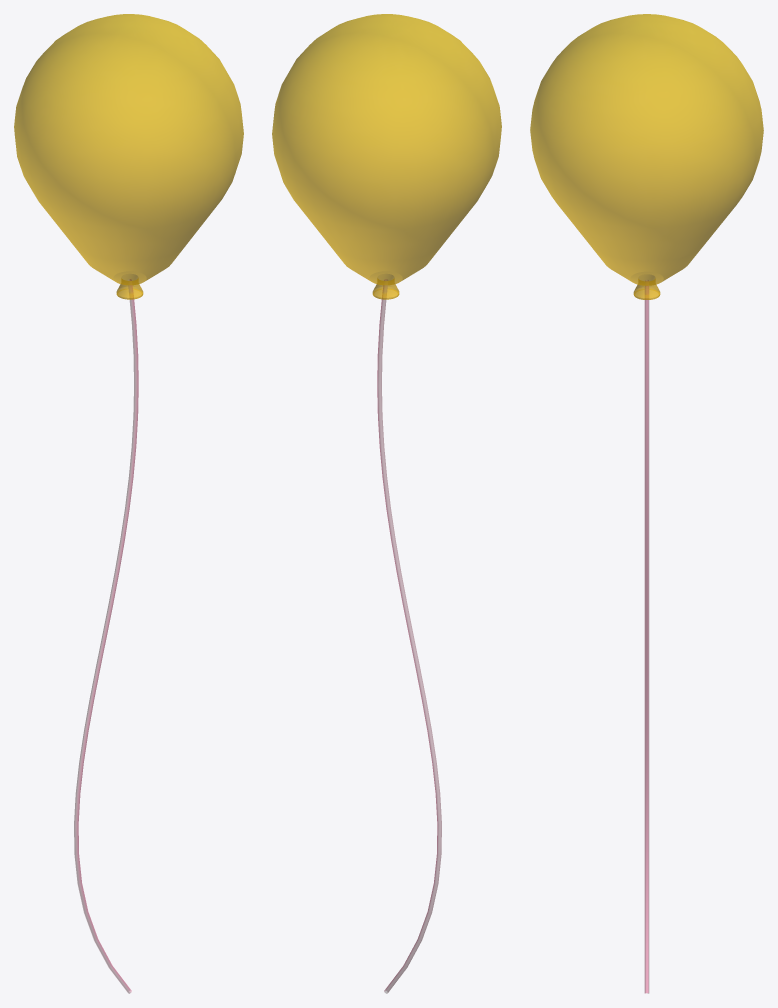
File: balloon.fbx
The picture shows the model from 3 angles, left to right: view 1: azimuth 30°, elevation 25°; view 2: azimuth 150°, elevation 25°; view 3: azimuth 270°, elevation 25°; orthographic projection.
Parts seen in each view (by area): view 1: balloon, string; view 2: balloon, string; view 3: balloon, string.
Part boxes in pixels (left/top/right/bottom): balloon: left=14, top=14, right=243, bottom=299; string: left=74, top=279, right=138, bottom=993; balloon: left=272, top=14, right=501, bottom=299; string: left=377, top=279, right=441, bottom=993; balloon: left=530, top=14, right=763, bottom=299; string: left=644, top=280, right=649, bottom=993.
Size of the model in its own units: 0.3893 by 1.82 by 0.3976.
